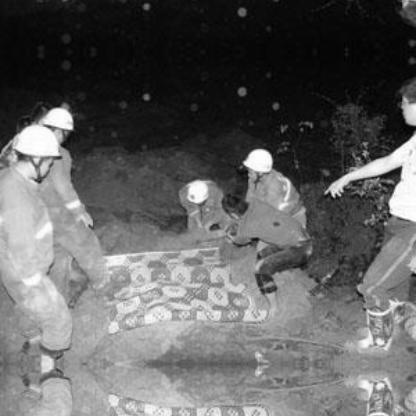helmet: (10, 124, 61, 182), (41, 108, 75, 145), (243, 146, 274, 182), (180, 178, 214, 207)
